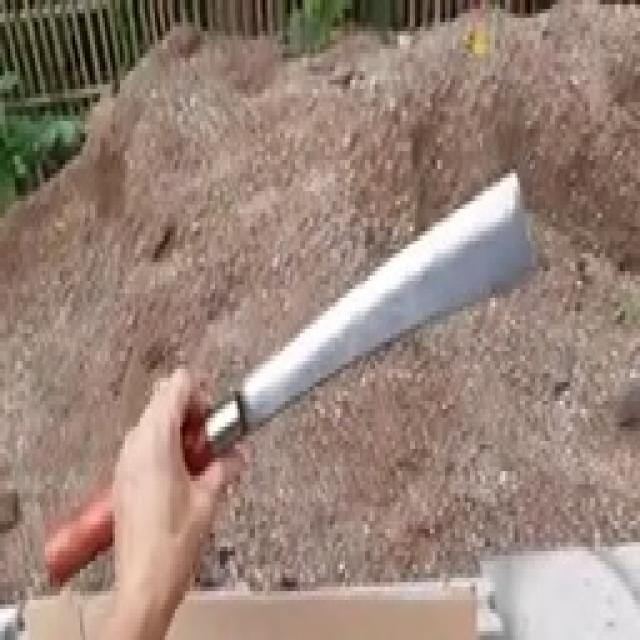eto: (41, 171, 537, 585)
